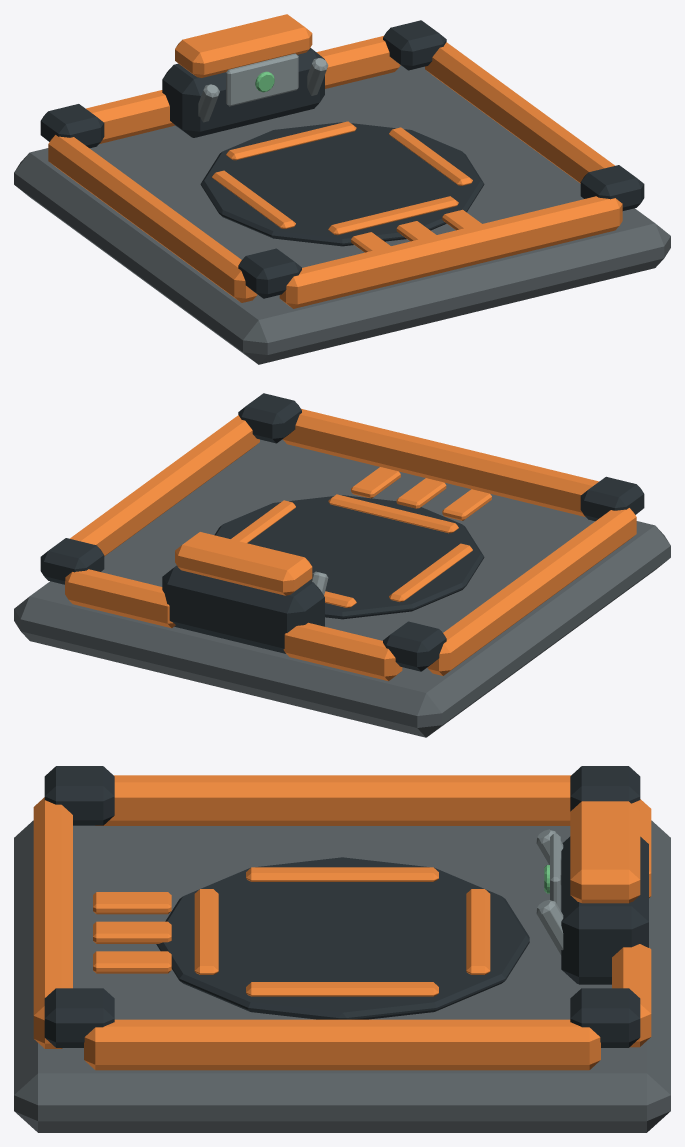
The model's file is runner_home.glb.
3 renders of one model, top to bottom at view 1: azimuth 30°, elevation 25°; view 2: azimuth 150°, elevation 25°; view 3: azimuth 270°, elevation 25°, orthographic. The views are drawn at different scales.
Visible parts, largest first — view 1: FarmRunnerDock_Mesh; view 2: FarmRunnerDock_Mesh; view 3: FarmRunnerDock_Mesh.
Boxes of the visible parts, left/top/right/bottom form: FarmRunnerDock_Mesh: left=14, top=14, right=670, bottom=364; FarmRunnerDock_Mesh: left=14, top=393, right=670, bottom=737; FarmRunnerDock_Mesh: left=14, top=766, right=670, bottom=1132.
Size of the model in its own units: 1.5 by 0.425 by 1.5.
